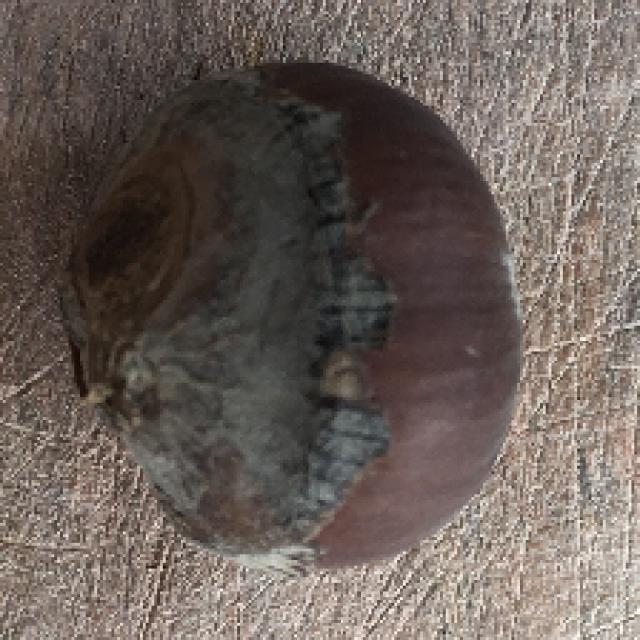damagedHazelnut: (56, 52, 527, 576)
